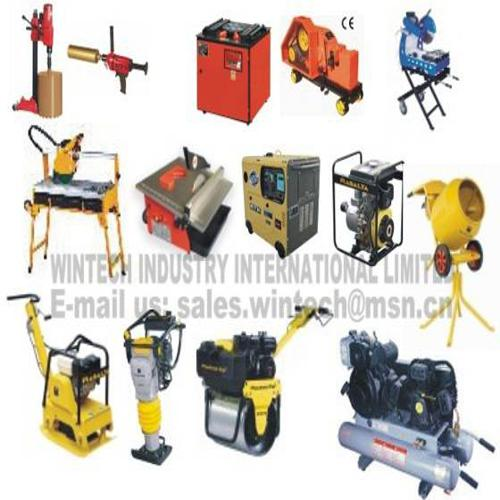con_eq: (198, 300, 330, 453), (23, 289, 115, 458)
